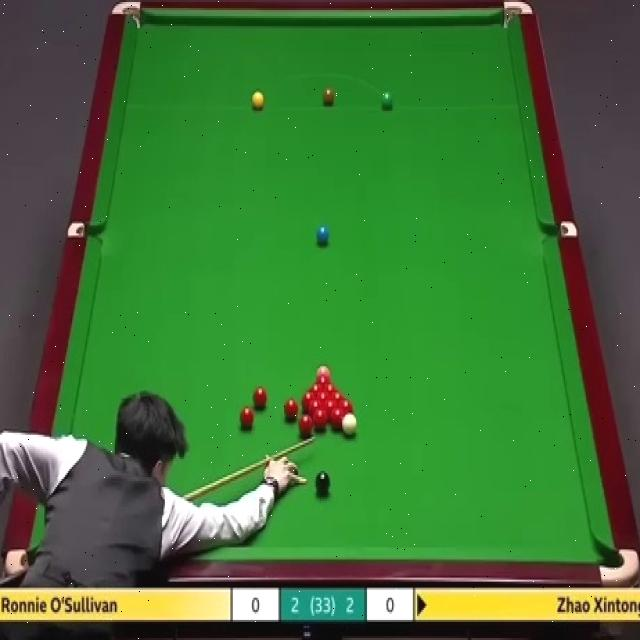black-ball: (314, 468, 330, 496)
blue-ball: (318, 226, 330, 248)
brown-ball: (322, 89, 334, 107)
green-ball: (381, 91, 393, 111)
pink-ball: (316, 362, 331, 378)
red-ball: (252, 385, 270, 410), (298, 414, 314, 438), (313, 407, 328, 431), (338, 400, 354, 420), (284, 398, 299, 419), (239, 406, 254, 427), (331, 410, 346, 430), (308, 399, 324, 415), (324, 400, 338, 418), (322, 384, 339, 395), (315, 392, 331, 403), (314, 375, 332, 384), (330, 392, 346, 402), (307, 384, 322, 394), (302, 393, 315, 403)
white-ball: (341, 412, 357, 436)
yellow-ball: (251, 89, 265, 111)
